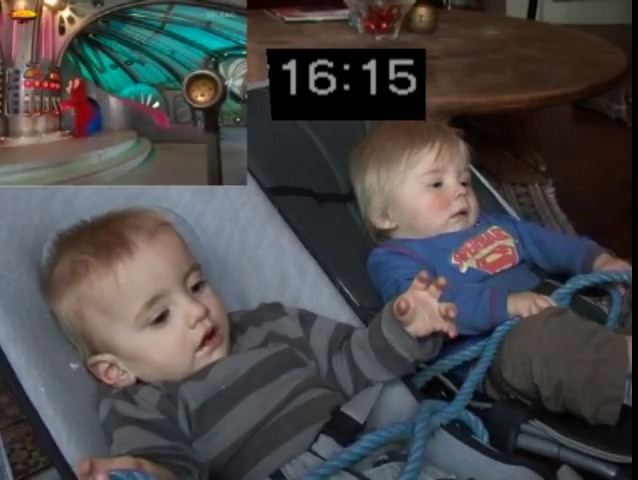person: (41, 208, 457, 480), (347, 116, 633, 427)
